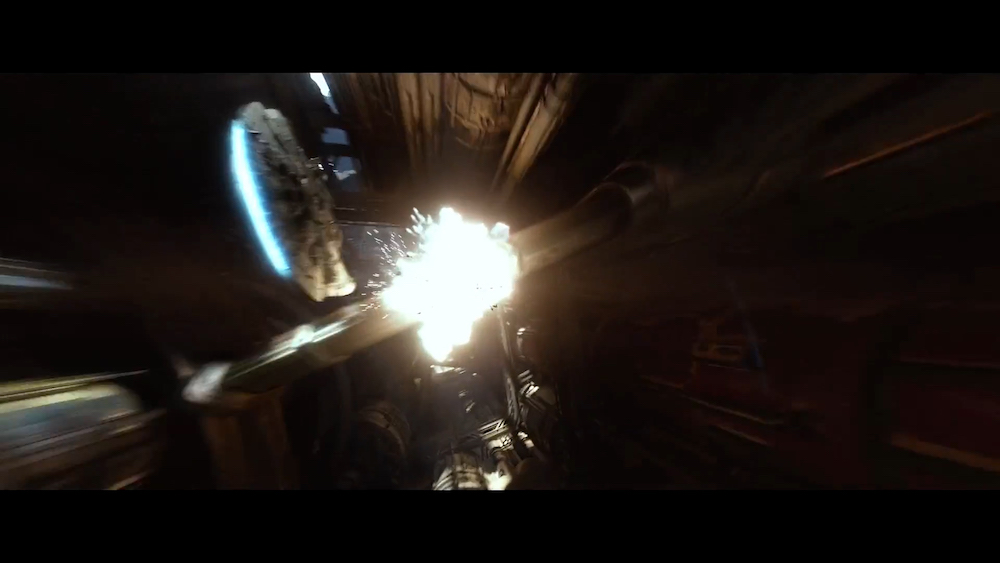Millennium Falcon: (228, 101, 359, 305)
